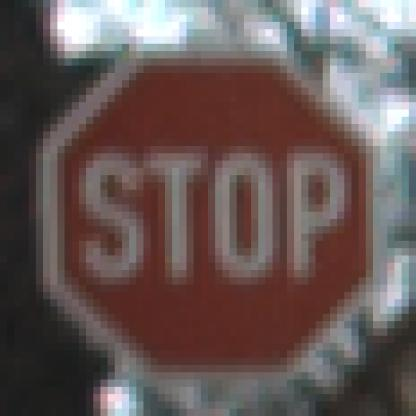stop: (30, 11, 383, 390)
